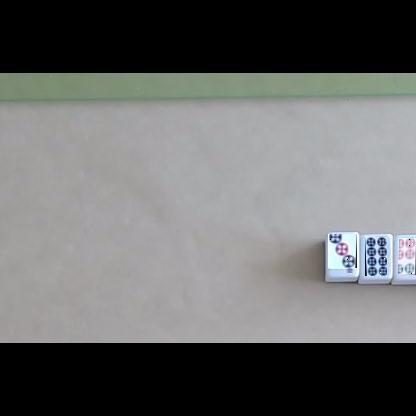3p: (328, 235, 357, 273)
6p: (398, 238, 416, 275)
8p: (365, 236, 387, 276)
